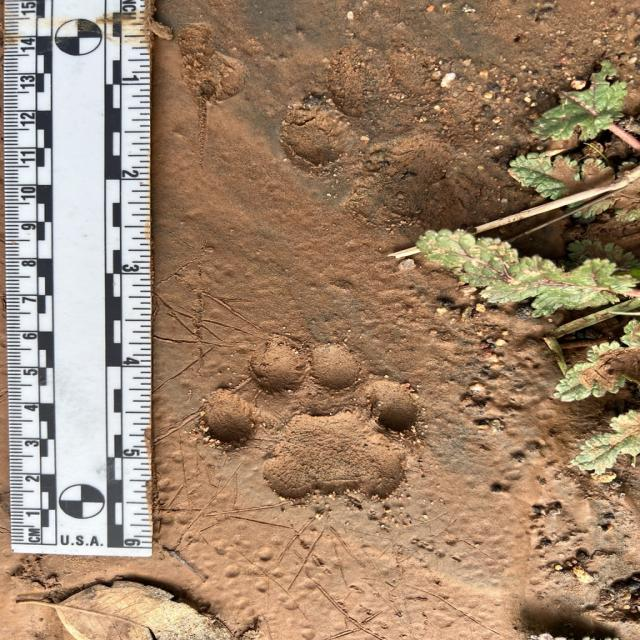felid: (208, 340, 420, 506)
